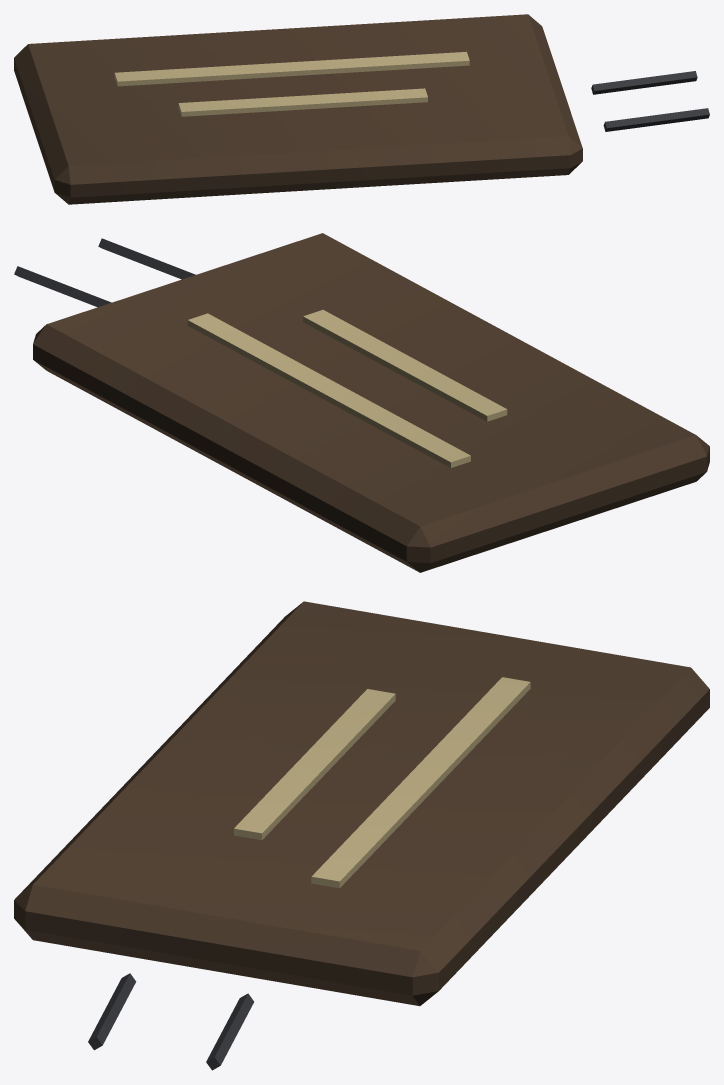
The model's file is ph_item_memorial_plate.glb.
3 renders of one model, top to bottom at view 1: azimuth 30°, elevation 25°; view 2: azimuth 150°, elevation 25°; view 3: azimuth 270°, elevation 25°, orthographic. The views are drawn at different scales.
Parts seen in each view (by area): view 1: ph_item_memorial_plate; view 2: ph_item_memorial_plate; view 3: ph_item_memorial_plate.
Part boxes in pixels (bbox=[...]): ph_item_memorial_plate: bbox=[14, 14, 709, 204]; ph_item_memorial_plate: bbox=[14, 233, 709, 572]; ph_item_memorial_plate: bbox=[14, 601, 709, 1070].
Bounding box in the file's own units: 0.3949 × 0.027 × 0.2733.
